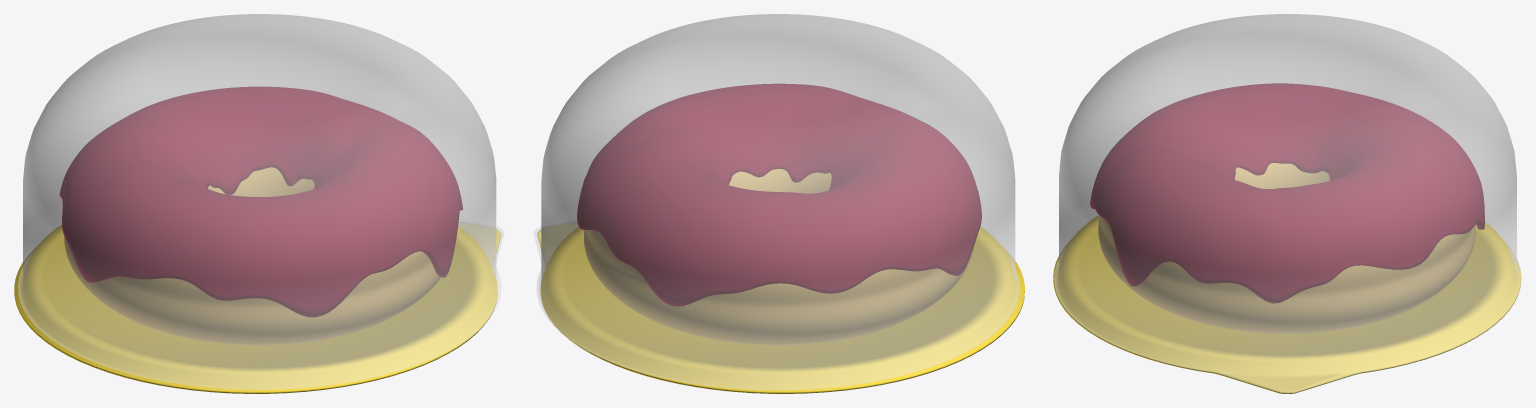
The model's file is Donut.fbx.
3 views of the same model, side by side, from view 1: azimuth 30°, elevation 25°; view 2: azimuth 150°, elevation 25°; view 3: azimuth 270°, elevation 25° (orthographic). The views are drawn at different scales.
Parts seen in each view (by area): view 1: Circle.001, Torus.002, Circle, Torus.001; view 2: Circle.001, Torus.002, Circle, Torus.001; view 3: Circle.001, Torus.002, Circle, Torus.001.
Part boxes in pixels (x1=…): Circle.001: x1=18, y1=14, x2=504, y2=389; Torus.002: x1=59, y1=86, x2=462, y2=317; Circle: x1=14, y1=224, x2=501, y2=393; Torus.001: x1=64, y1=167, x2=440, y2=345; Circle.001: x1=533, y1=14, x2=1020, y2=390; Torus.002: x1=577, y1=83, x2=981, y2=306; Circle: x1=537, y1=227, x2=1024, y2=393; Torus.001: x1=584, y1=169, x2=973, y2=345; Circle.001: x1=1054, y1=14, x2=1521, y2=393; Torus.002: x1=1090, y1=83, x2=1484, y2=303; Circle: x1=1053, y1=215, x2=1521, y2=393; Torus.001: x1=1098, y1=163, x2=1475, y2=333.
Bounding box in the file's own units: 10.8 × 4.91 × 9.95.
